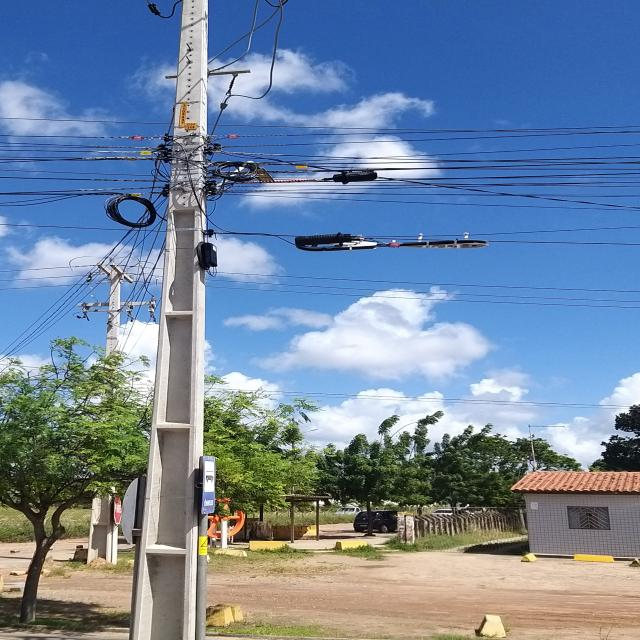Plaqueta: (132, 135, 143, 141), (228, 134, 237, 139), (390, 244, 400, 248)
